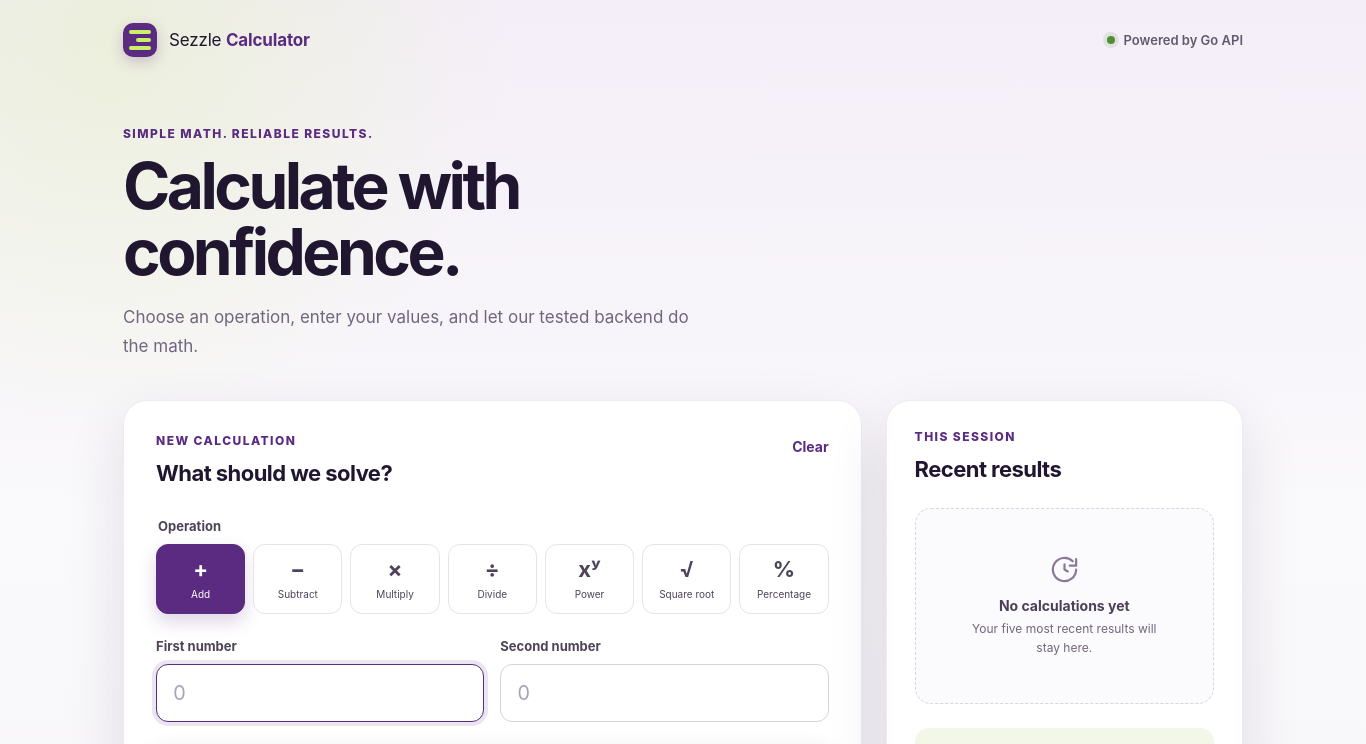
Scenario: App › calculates a binary operation and adds it to history
Type "6" into the field labelled "First number". click: [320, 693]
box: x1=156 y1=664 x2=484 y2=722
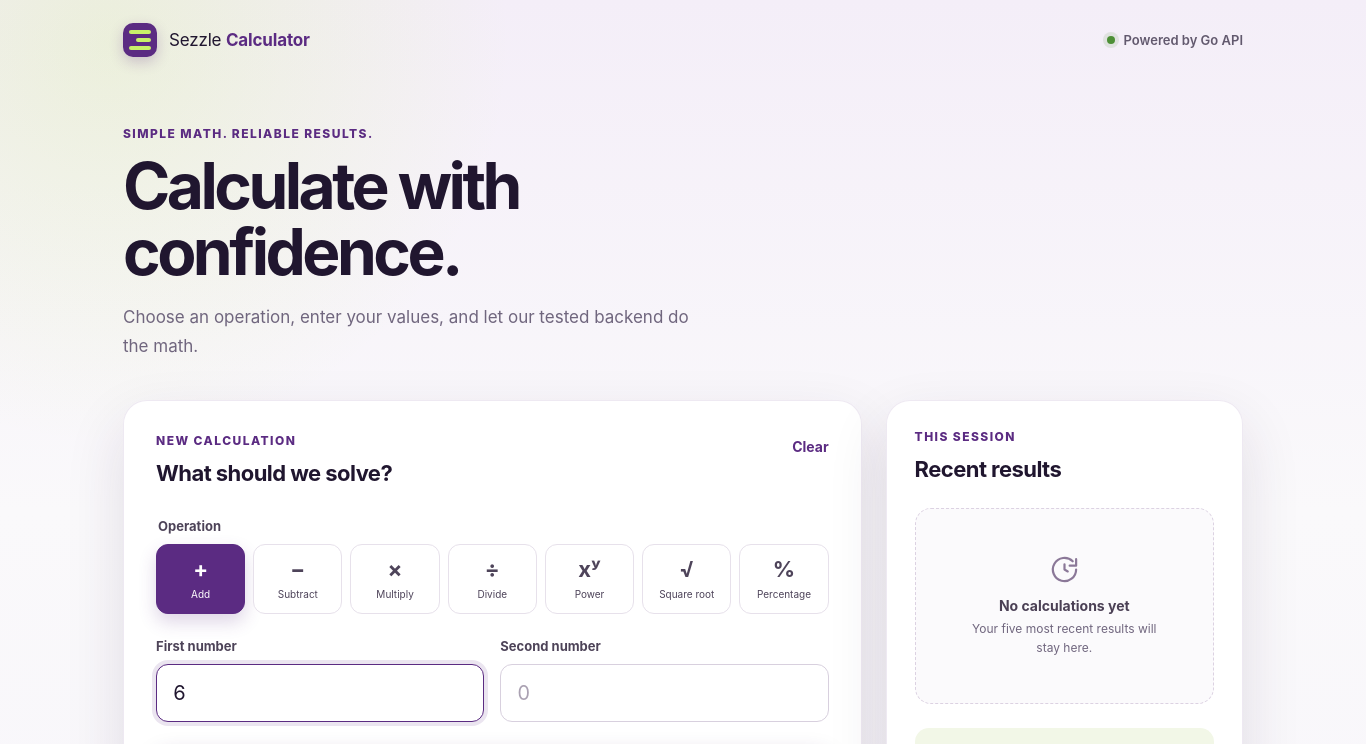
Type "7" into the field labelled "Second number". click: [664, 693]
box: x1=500 y1=664 x2=829 y2=722
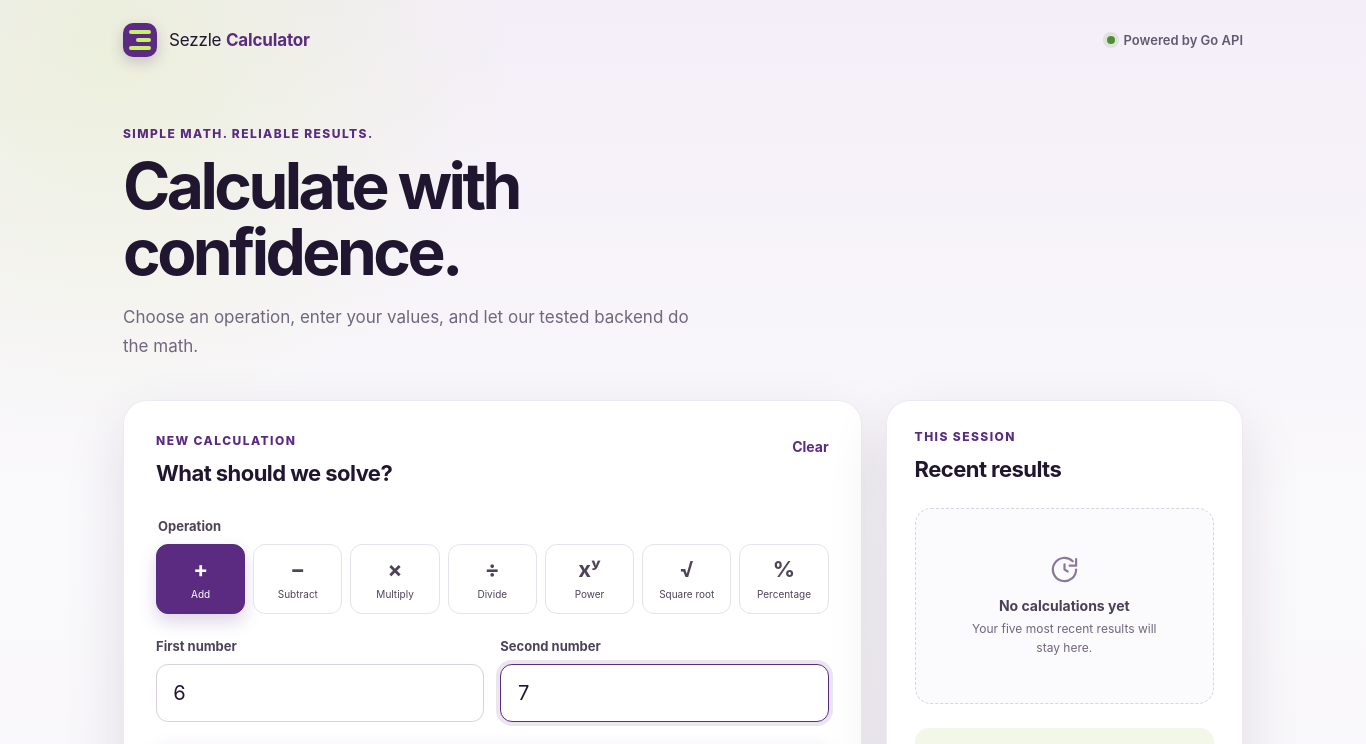
Click the button "× Multiply". click: [395, 579]
box: x1=350 y1=544 x2=440 y2=614
(page scrolled)
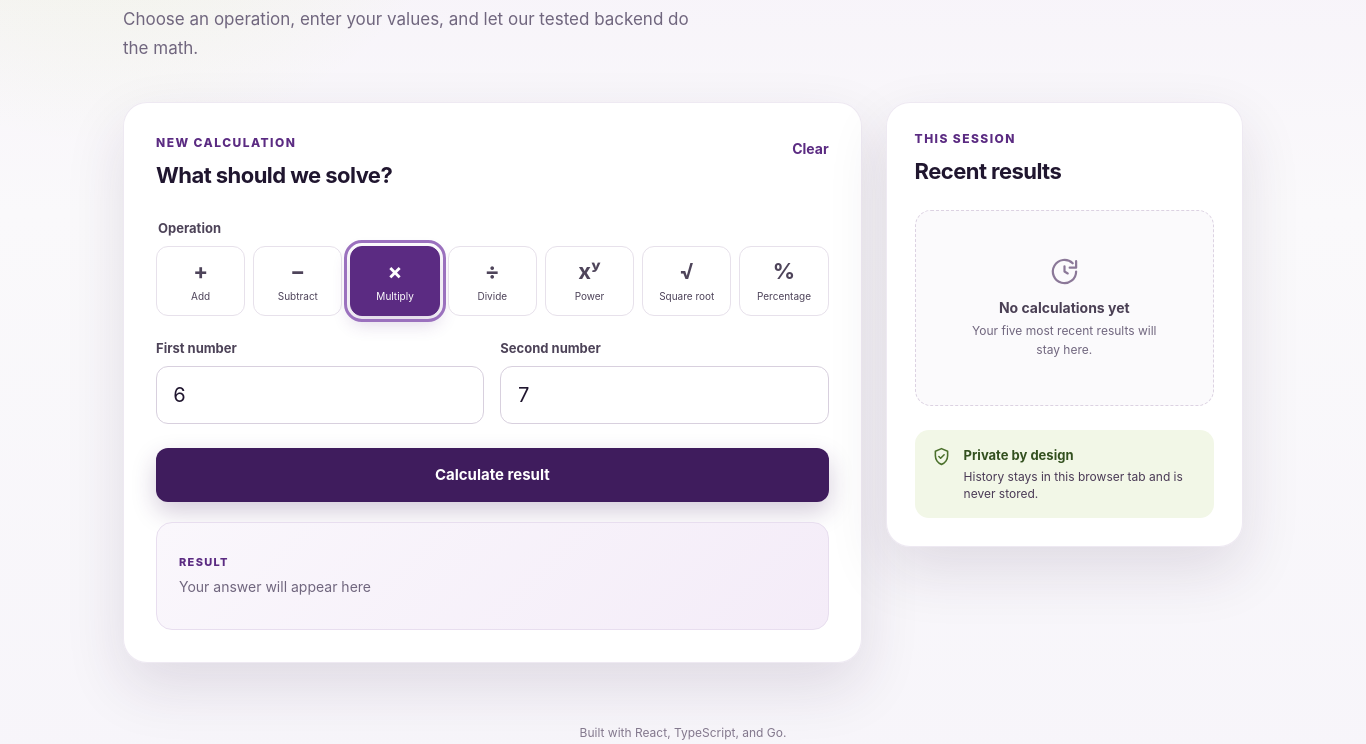
Click the button "Calculate result". click: [492, 475]
box: x1=156 y1=448 x2=829 y2=502
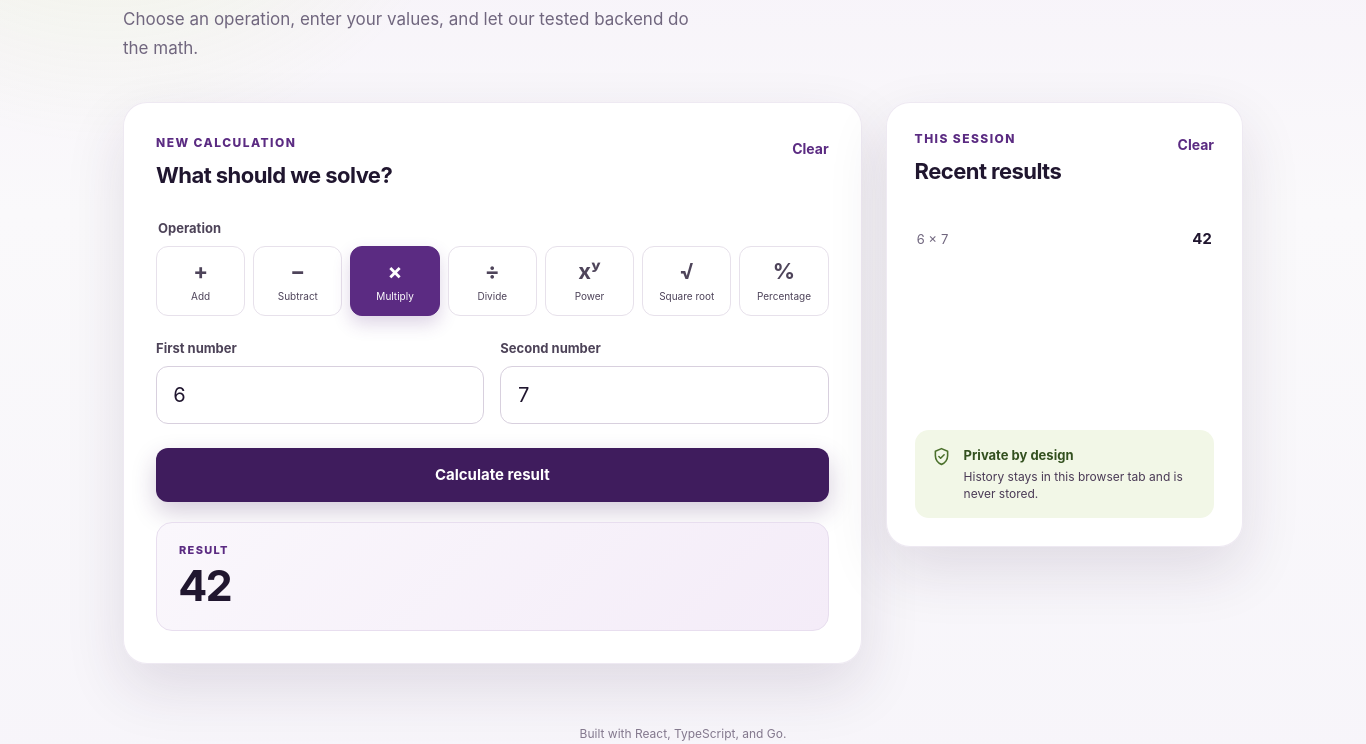
Expected: the text named "Result: 42" is shown, x1=179 y1=559 x2=232 y2=611
Expected: the text "6 × 7" is shown, x1=917 y1=231 x2=949 y2=247
